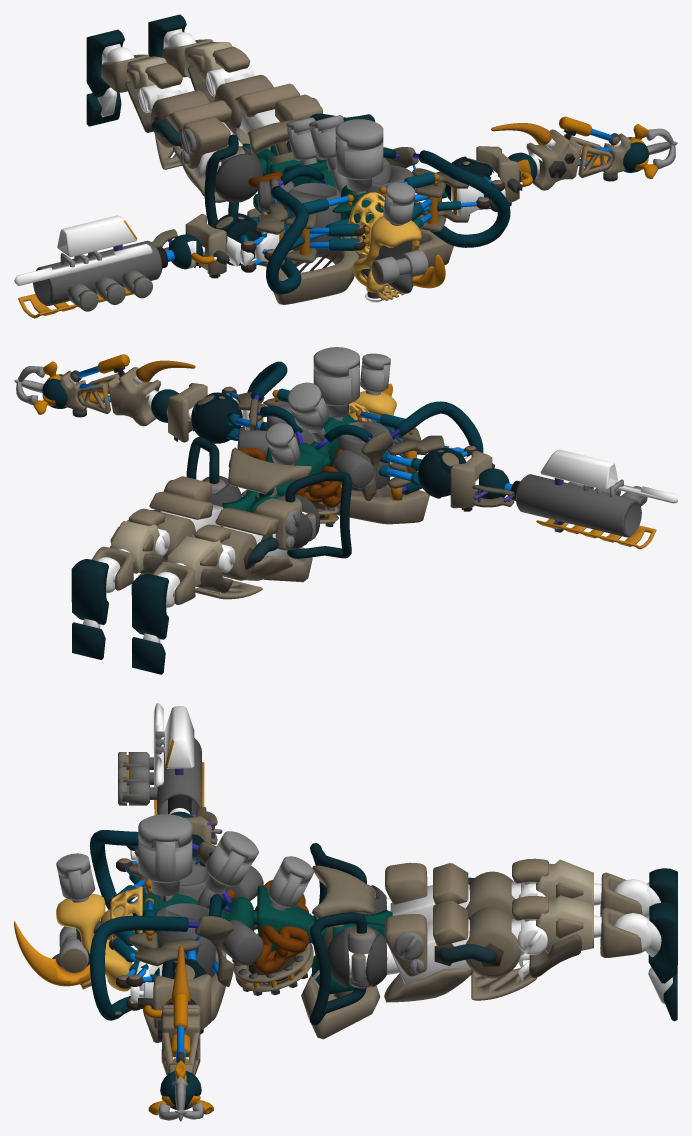
File: BrainStem.obj
3 views of the same model, one above another, from view 1: azimuth 30°, elevation 25°; view 2: azimuth 150°, elevation 25°; view 3: azimuth 270°, elevation 25° (orthographic). The views are drawn at different scales.
Visible parts, largest first — view 1: Figure_2_geometry; view 2: Figure_2_geometry; view 3: Figure_2_geometry.
Boxes of the visible parts, x1,y1,x2,y2 form: Figure_2_geometry: (14,14,677,318); Figure_2_geometry: (14,347,677,674); Figure_2_geometry: (14,703,677,1121).
Size of the model in its own units: 2.41 by 0.5971 by 1.83.
